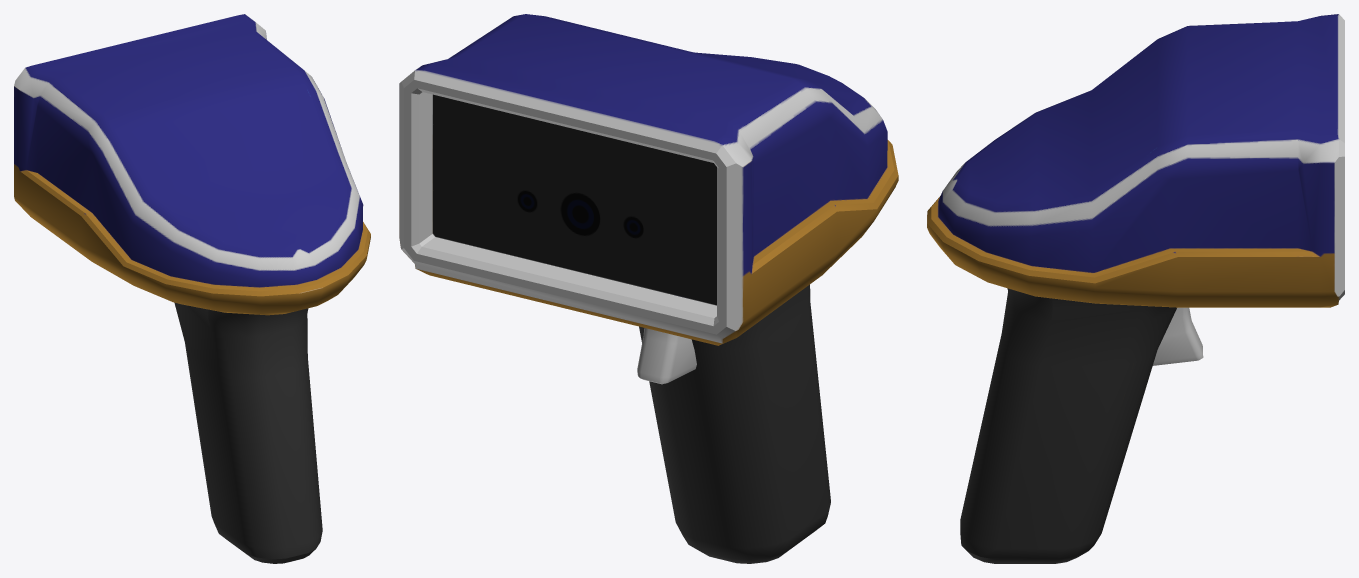
Rendered from BARCODE_HANDHELD.fbx.
The picture shows the model from 3 angles, left to right: view 1: azimuth 30°, elevation 25°; view 2: azimuth 150°, elevation 25°; view 3: azimuth 270°, elevation 25°; orthographic projection. The views are drawn at different scales.
Visible parts, largest first — view 1: BARCODE_HANDHELD; view 2: BARCODE_HANDHELD; view 3: BARCODE_HANDHELD.
Part boxes in pixels (bbox=[...]): BARCODE_HANDHELD: bbox=[14, 14, 370, 563]; BARCODE_HANDHELD: bbox=[399, 14, 898, 563]; BARCODE_HANDHELD: bbox=[927, 14, 1344, 563].
Size of the model in its own units: 200 by 317 by 252.
